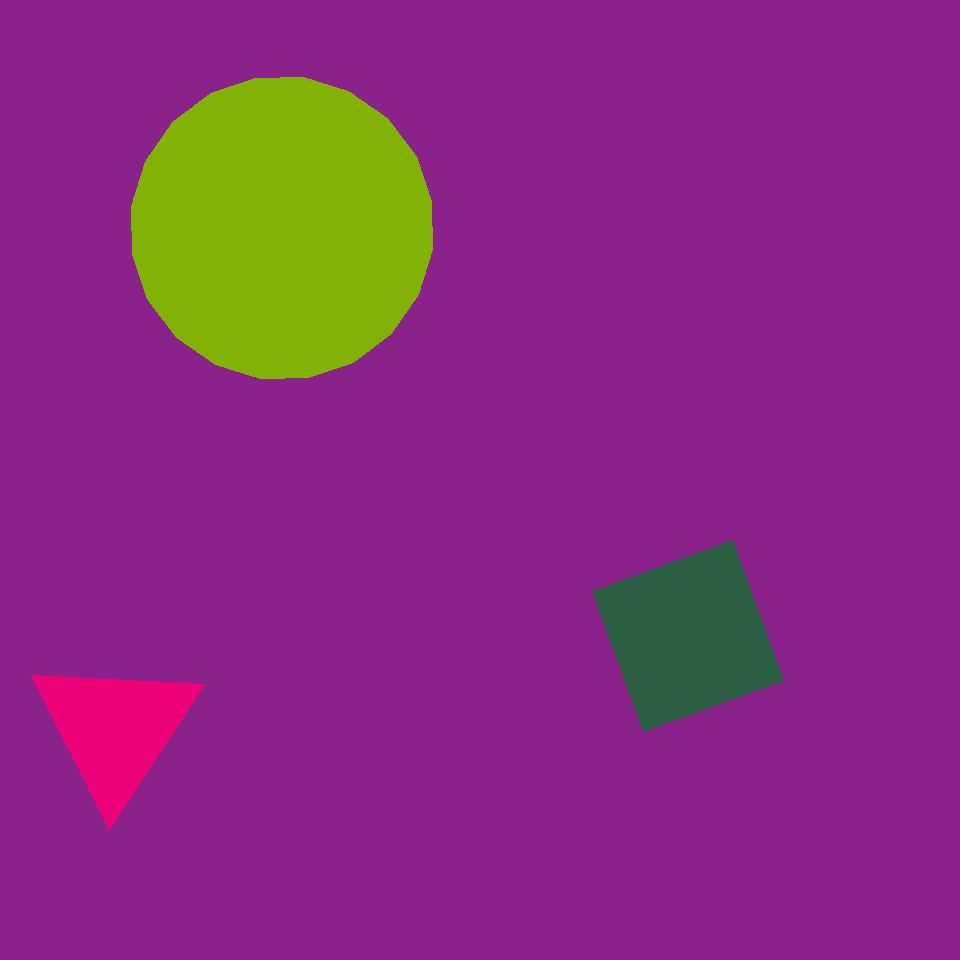circle: (30, 627, 243, 828), (29, 653, 202, 807)
square: (252, 727, 446, 921), (592, 540, 784, 732), (133, 583, 277, 727)
triangle: (132, 77, 433, 378), (610, 427, 715, 533)
